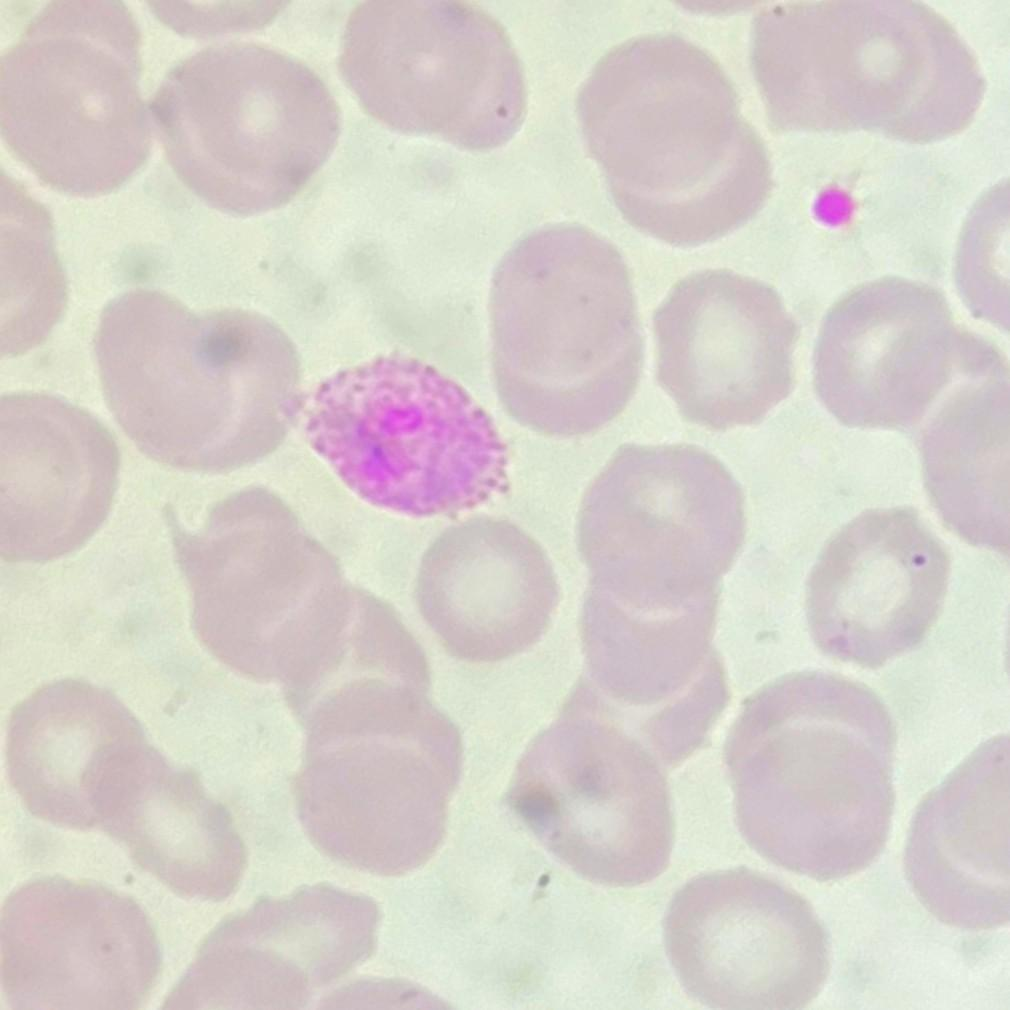Infected: (286, 354, 512, 516)
Uninfected: (502, 718, 680, 885), (78, 738, 248, 901), (0, 28, 163, 196), (576, 36, 746, 197), (574, 442, 746, 601), (728, 722, 899, 872), (754, 0, 943, 132), (488, 222, 640, 385), (802, 500, 952, 665), (659, 867, 832, 1010), (174, 40, 344, 185), (162, 300, 306, 469), (274, 584, 435, 735), (286, 732, 454, 876), (654, 270, 805, 428), (94, 290, 237, 455), (0, 874, 173, 1010), (816, 274, 960, 426), (0, 388, 123, 564), (8, 682, 150, 834), (417, 516, 560, 666), (582, 554, 722, 706), (344, 0, 499, 130), (918, 384, 1010, 548)
